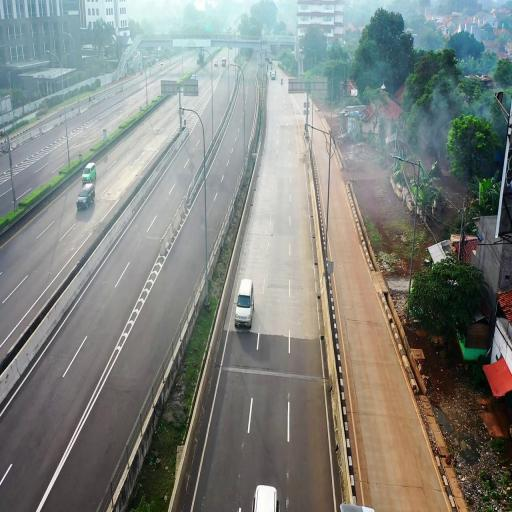vehicle: (234, 278, 254, 328)
